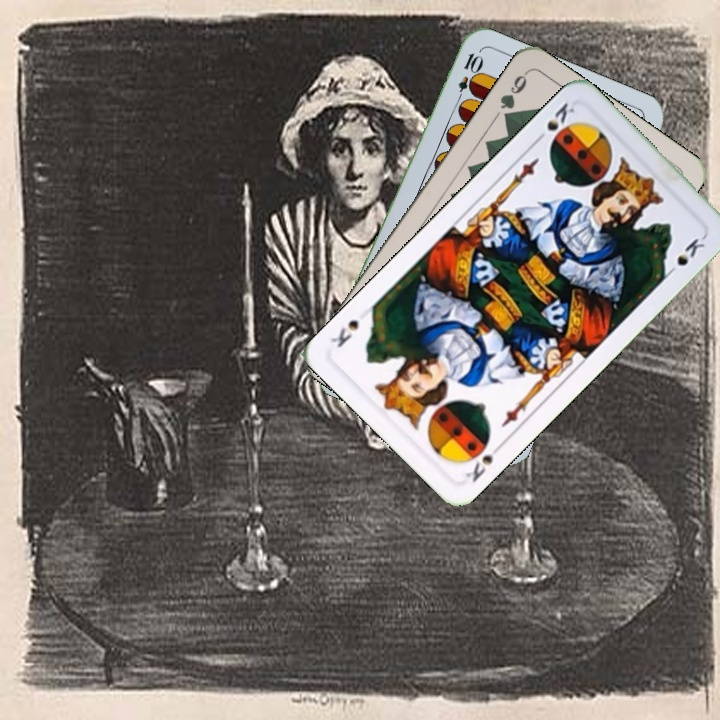E10: (452, 49, 484, 107)
G9: (496, 68, 530, 125)
SK: (530, 98, 578, 146), (461, 438, 504, 485)
